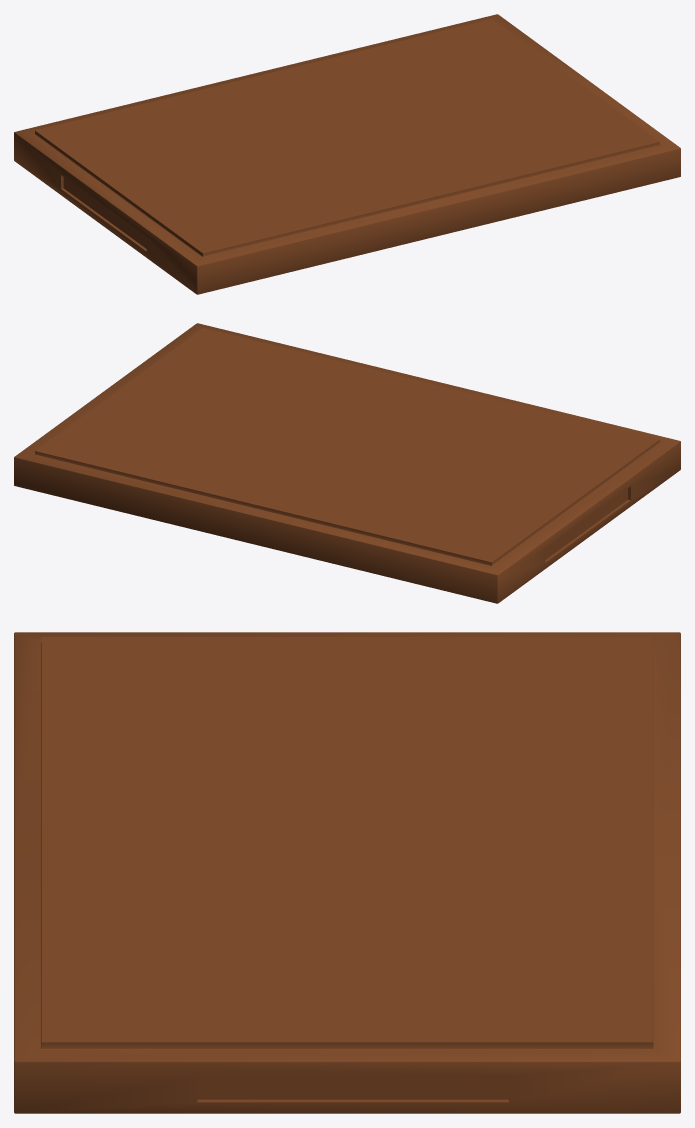
File: SM_Planche.fbx
3 renders of one model, top to bottom at view 1: azimuth 30°, elevation 25°; view 2: azimuth 150°, elevation 25°; view 3: azimuth 270°, elevation 25°, orthographic. The views are drawn at different scales.
Parts seen in each view (by area): view 1: planche a decouper; view 2: planche a decouper; view 3: planche a decouper.
Boxes of the visible parts, bbox=[...] form: planche a decouper: bbox=[14, 14, 680, 294]; planche a decouper: bbox=[14, 323, 680, 603]; planche a decouper: bbox=[14, 632, 680, 1113].
Size of the model in its own units: 653 by 42.35 by 429.
